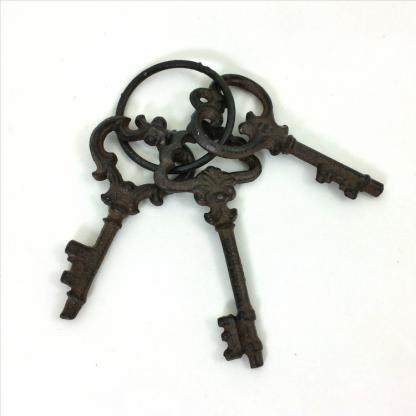key: (61, 73, 384, 367)
